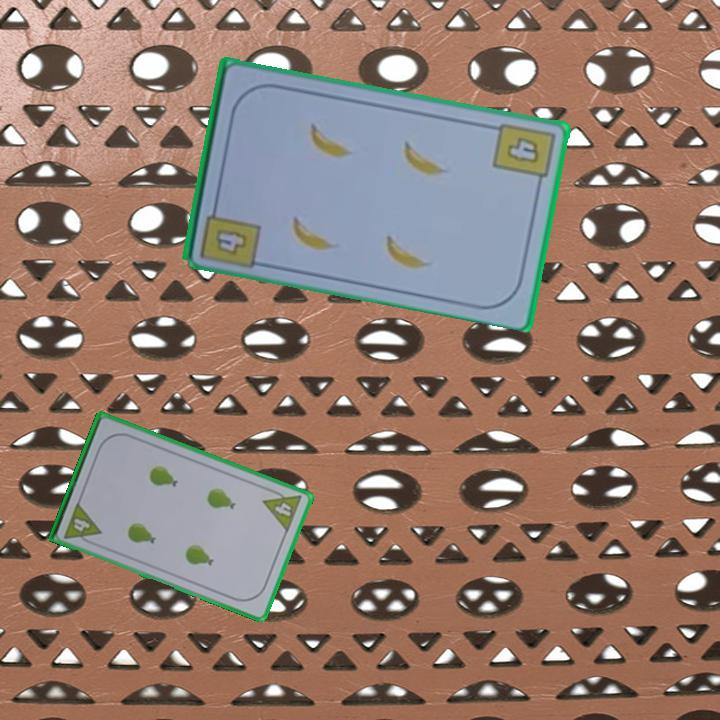4b: (489, 118, 558, 190), (212, 224, 251, 258)
4p: (260, 484, 304, 535), (61, 498, 104, 548)
